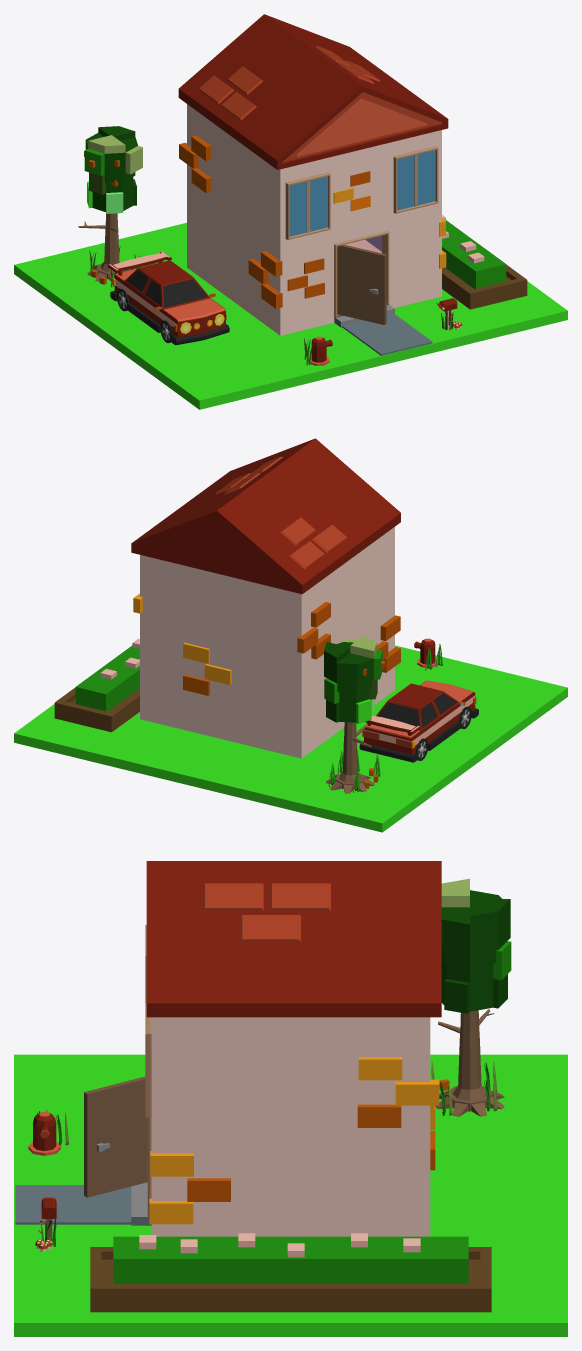
The model's file is house.06cbc784.glb.
3 renders of one model, top to bottom at view 1: azimuth 30°, elevation 25°; view 2: azimuth 150°, elevation 25°; view 3: azimuth 270°, elevation 25°, orthographic. The views are drawn at different scales.
Parts seen in each view (by area): view 1: Cube.005, Cube, Cube.010, Cube.006, Cube.018; view 2: Cube.005, Cube, Cube.010; view 3: Cube.005, Cube, Cube.006, Cube.018.
Part boxes in pixels (x1,y1,x2,y2): Cube.005: (178, 14, 448, 335); Cube: (14, 126, 567, 409); Cube.010: (107, 251, 229, 345); Cube.006: (337, 244, 386, 324); Cube.018: (308, 336, 332, 365); Cube.005: (131, 438, 400, 758); Cube: (14, 635, 567, 832); Cube.010: (359, 680, 478, 762); Cube.005: (131, 861, 441, 1236); Cube: (14, 878, 567, 1336); Cube.006: (84, 1076, 147, 1197); Cube.018: (28, 1111, 60, 1155).
Size of the model in its own units: 4.56 by 2.84 by 3.98.
2 materials, 2 textured.
